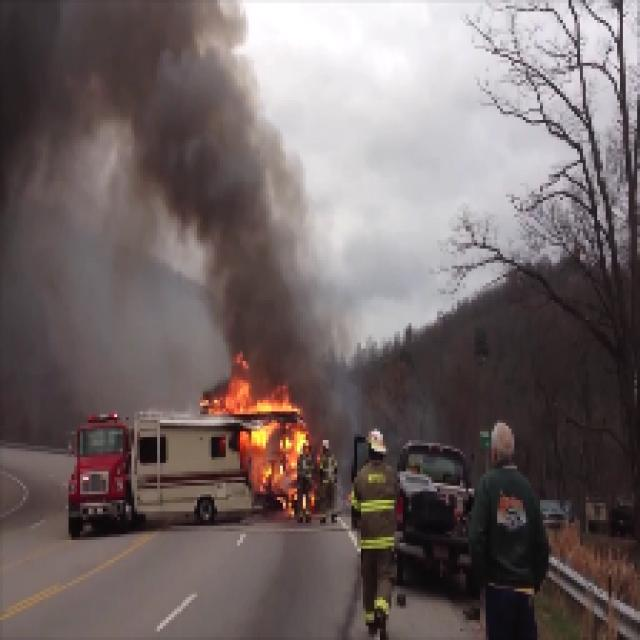fire: (212, 386, 308, 520)
smoke: (4, 2, 241, 284), (247, 124, 346, 362)
